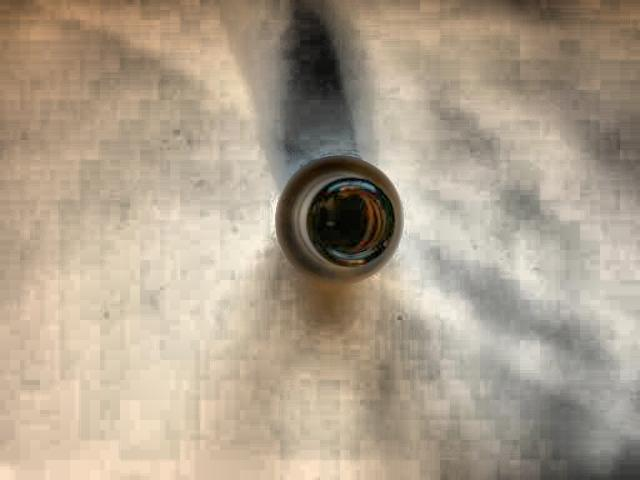Bottles: (241, 115, 458, 317)
